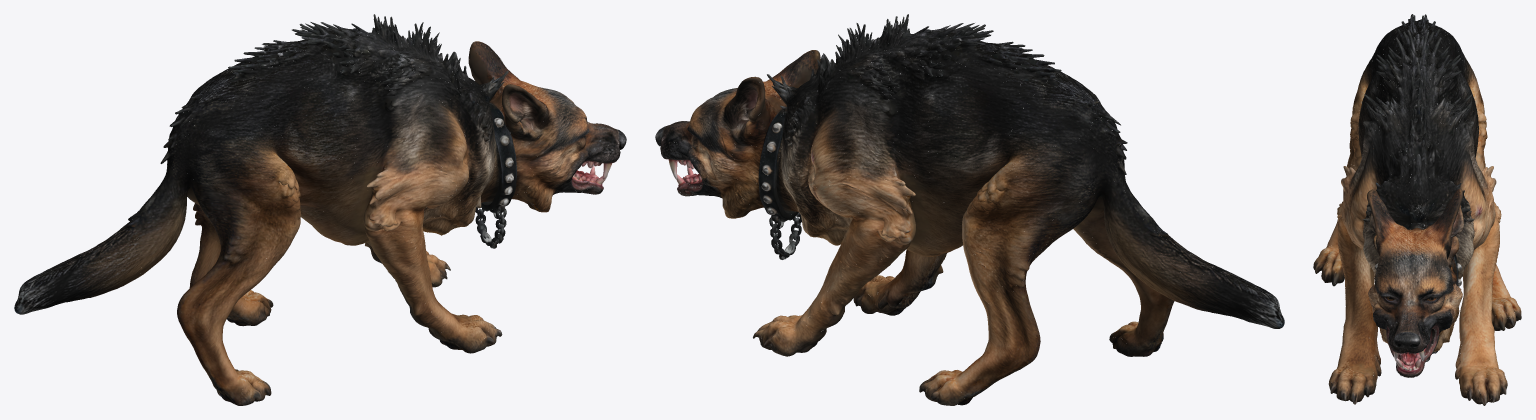
The model's file is attack_dog_master.glb.
3 renders of one model, left to right at view 1: azimuth 30°, elevation 25°; view 2: azimuth 150°, elevation 25°; view 3: azimuth 270°, elevation 25°, orthographic. The views are drawn at different scales.
Parts seen in each view (by area): view 1: attack_dog; view 2: attack_dog; view 3: attack_dog.
Part boxes in pixels (x1=…): attack_dog: x1=14, y1=14, x2=626, y2=405; attack_dog: x1=655, y1=14, x2=1284, y2=405; attack_dog: x1=1313, y1=14, x2=1521, y2=405.
Bounding box in the file's own units: 1.28 × 0.6501 × 0.4037.
Materials: 1 (1 with a texture image).
